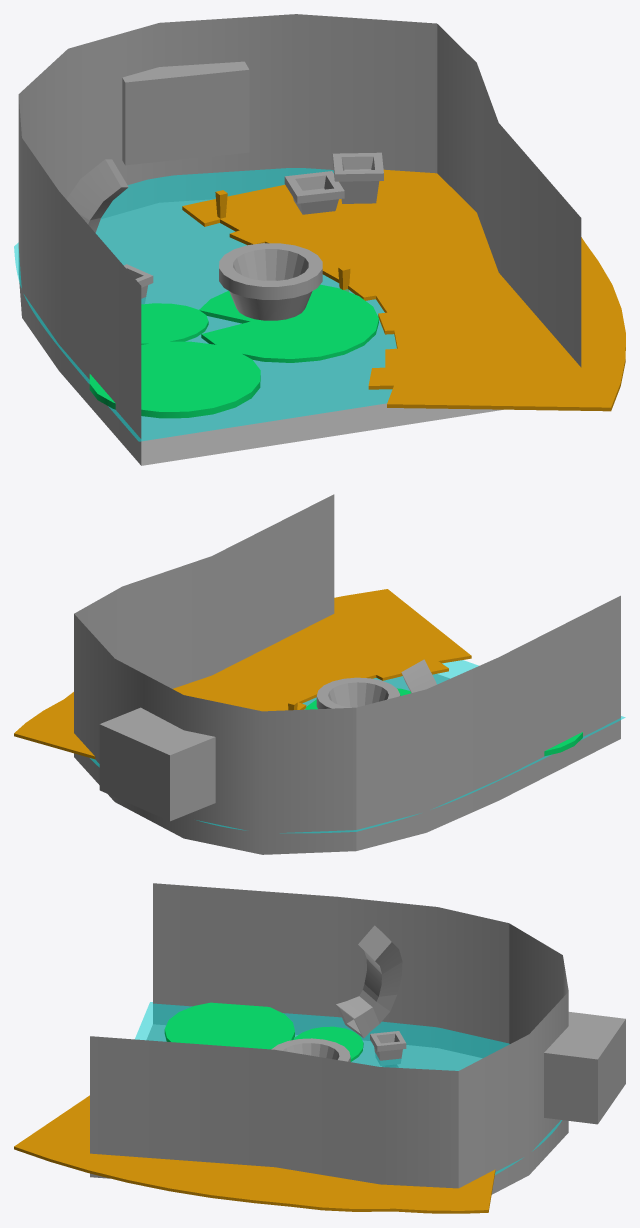
The model's file is Environment_05_Greenhouse_Lower.fbx.
The picture shows the model from 3 angles, top to bottom: view 1: azimuth 30°, elevation 25°; view 2: azimuth 150°, elevation 25°; view 3: azimuth 270°, elevation 25°; orthographic projection. The views are drawn at different scales.
Parts seen in each view (by area): view 1: OBJ_Walls, OBJ_Dock, OBJ_Water, OBJ_Window, OBJ_lilypad_Large, OBJ_Lilypad_Medium, OBJ_Witch_Pot, OBJ_Lilypad_small, OBJ_Shute, OBJ_Pot_medium, OBJ_Pot_small; view 2: OBJ_Walls, OBJ_Dock, OBJ_Window, OBJ_Witch_Pot, OBJ_Water, OBJ_Shute; view 3: OBJ_Walls, OBJ_Dock, OBJ_Window, OBJ_Water, OBJ_Lilypad_Medium, OBJ_Shute, OBJ_Witch_Pot, OBJ_Pot_vine, OBJ_Lilypad_small.
Part boxes in pixels (x1,y1,x2,y2): OBJ_Walls: (18, 14, 581, 465); OBJ_Dock: (182, 169, 625, 411); OBJ_Water: (14, 168, 396, 441); OBJ_Window: (122, 61, 249, 165); OBJ_lilypad_Large: (199, 284, 378, 362); OBJ_Lilypad_Medium: (89, 341, 260, 418); OBJ_Witch_Pot: (219, 243, 322, 320); OBJ_Lilypad_small: (141, 303, 208, 344); OBJ_Shute: (66, 159, 128, 232); OBJ_Pot_medium: (332, 152, 383, 203); OBJ_Pot_small: (284, 171, 344, 214); OBJ_Walls: (74, 494, 620, 854); OBJ_Dock: (14, 589, 471, 759); OBJ_Window: (99, 707, 215, 821); OBJ_Witch_Pot: (316, 677, 400, 708); OBJ_Water: (90, 660, 625, 833); OBJ_Shute: (401, 659, 436, 692); OBJ_Walls: (90, 883, 568, 1194); OBJ_Dock: (14, 1095, 495, 1213); OBJ_Window: (544, 1012, 625, 1124); OBJ_Water: (135, 1002, 561, 1174); OBJ_Lilypad_Medium: (164, 1002, 294, 1049); OBJ_Shute: (336, 925, 402, 1038); OBJ_Witch_Pot: (271, 1038, 350, 1061); OBJ_Pot_vine: (370, 1031, 406, 1067); OBJ_Lilypad_small: (293, 1026, 363, 1061).
Size of the model in its own units: 445 by 155 by 543.
